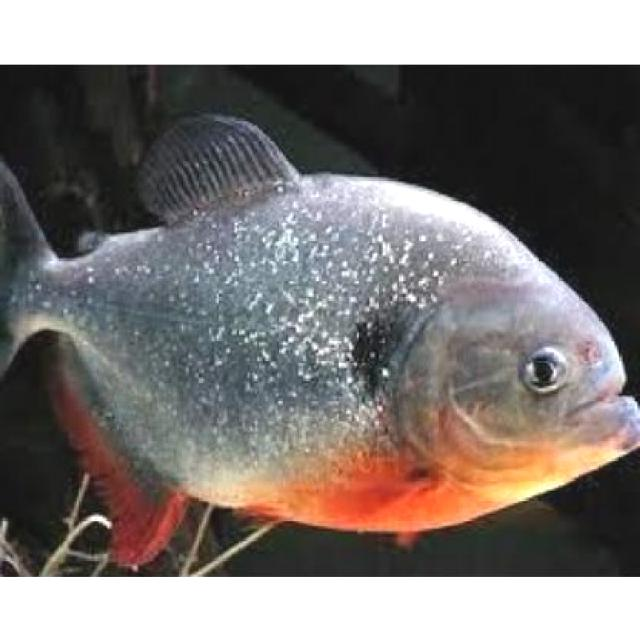ikan-pacu: (9, 152, 640, 534)
